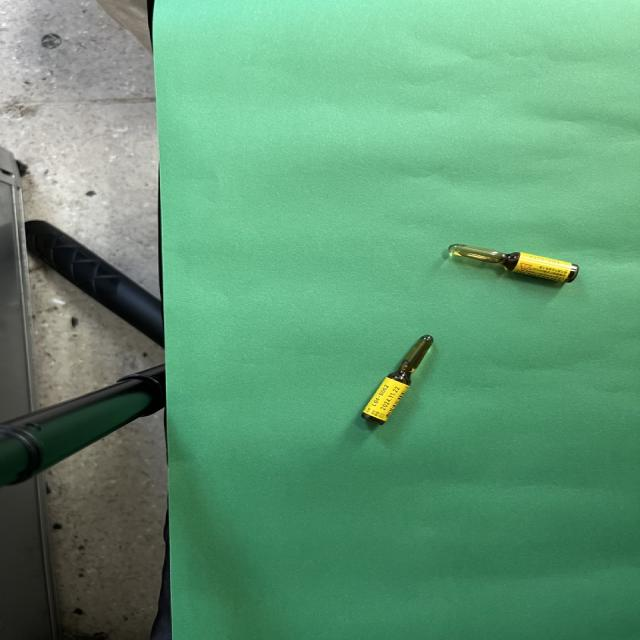Ampoules: (361, 336, 433, 426), (448, 244, 579, 283)
